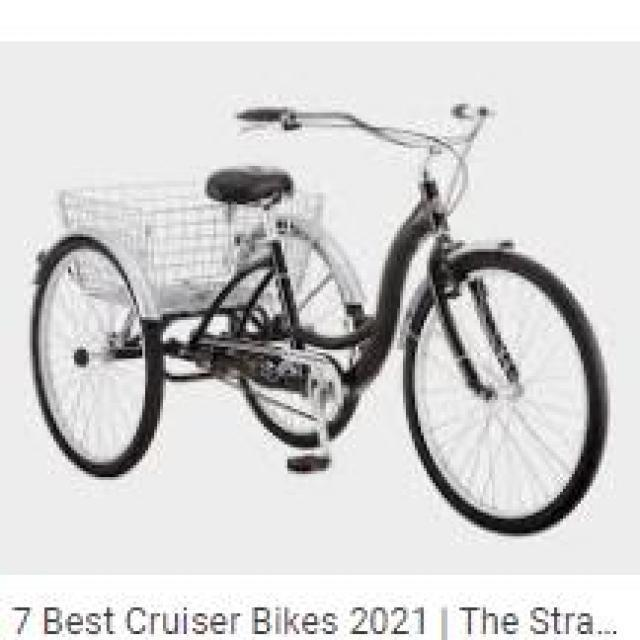bicycle: (40, 111, 609, 523)
